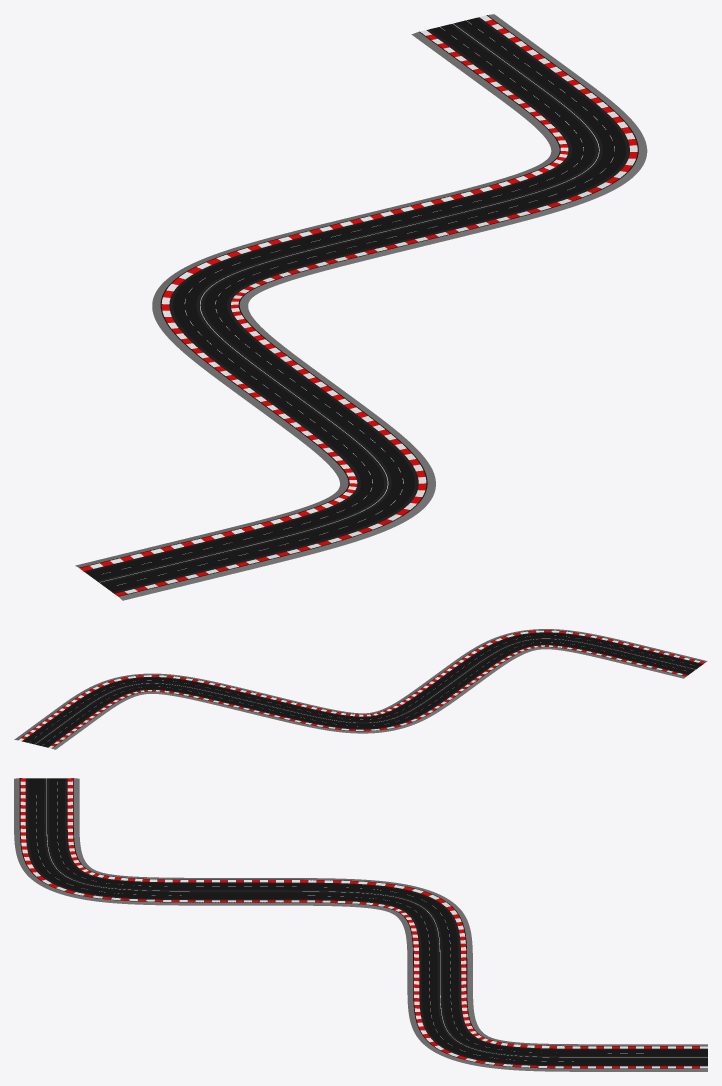
The model's file is S0.3c3h0-1-chikB.glb.
3 renders of one model, top to bottom at view 1: azimuth 30°, elevation 25°; view 2: azimuth 150°, elevation 25°; view 3: azimuth 270°, elevation 25°, orthographic. The views are drawn at different scales.
Visible parts, largest first — view 1: Grid.001; view 2: Grid.001; view 3: Grid.001.
Boxes of the visible parts, box(x1,y1,x2,y2) form: Grid.001: box(75, 14, 647, 600); Grid.001: box(14, 629, 707, 749); Grid.001: box(14, 778, 707, 1071).
Size of the model in its own units: 265 by 0.31 by 265.
